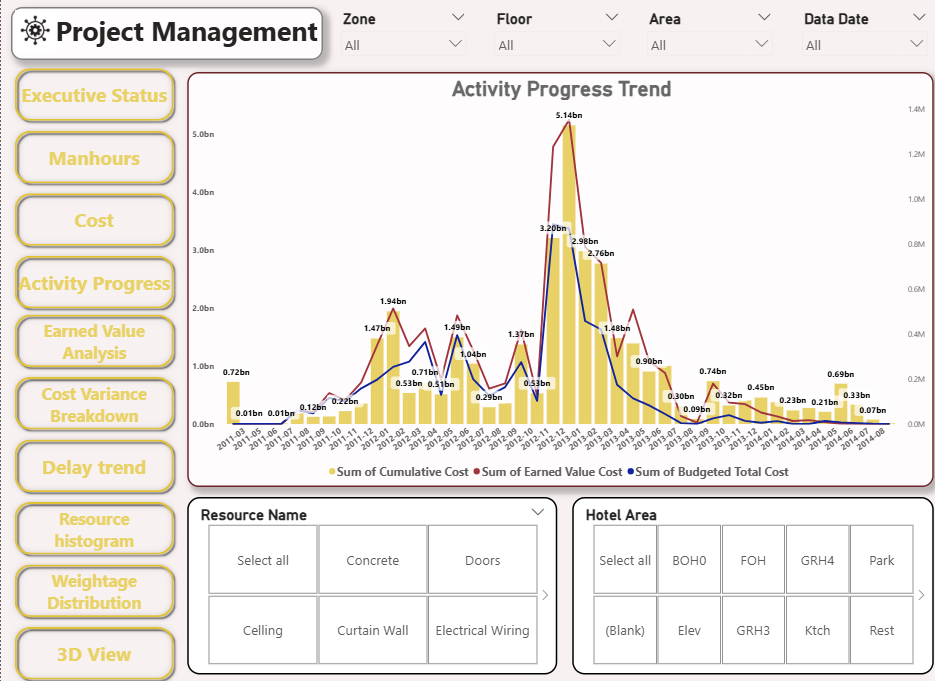

The dashboard page shown, as its layout file describes it:
{"tool":"powerbi","page":{"name":"Activity Progress","canvas":[1500,1100],"ordinal":3},"visuals":[{"type":"textbox","box":[15.2,16.2,499.3,84.6],"z":0},{"type":"image","box":[15.2,16.9,77.9,74.5],"z":1000},{"type":"slicer","fields":{"Values":["Floorcodes_Table.Floor Code Value"]},"box":[780.3,16.9,220,84.6],"z":2000},{"type":"slicer","fields":{"Values":["H areas_Table.H aresCode Value"]},"box":[1024,16.9,220,84.6],"z":3000},{"type":"slicer","fields":{"Values":["Aug14tasks_Table.Zone Number"]},"box":[534.9,16.9,220,84.6],"z":4000},{"type":"slicer","fields":{"Values":["Summary_Table.Data Date."]},"box":[1272.9,16.9,220,84.6],"z":5000},{"type":"actionButton","box":[14,106,270,100],"z":6000},{"type":"actionButton","box":[14,206,270,100],"z":7000},{"type":"actionButton","box":[14,306,270,100],"z":8000},{"type":"actionButton","box":[14,406,270,100],"z":9000},{"type":"actionButton","box":[14,500,270,100],"z":10000},{"type":"actionButton","box":[14,600,270,100],"z":11000},{"type":"actionButton","box":[14,700,270,100],"z":12000},{"type":"actionButton","box":[14,800,270,100],"z":13000},{"type":"actionButton","box":[14,900,270,100],"z":14000},{"type":"actionButton","box":[14,1000,270,100],"z":15000},{"type":"lineStackedColumnComboChart","title":"Activity Progress Trend","fields":{"Category":["Task_Table.MonthYear"],"Y2":["Sum(Task_Table.Earned Value Cost)","Sum(Task_Table.Budgeted Total Cost)"],"Y":["Sum(Task_Table.Cumulative Cost)"]},"box":[298,120,1194,664],"z":16000},{"type":"slicer","fields":{"Values":["Resource_Table.Resource Name"]},"box":[298,800,592,284],"z":17000},{"type":"slicer","fields":{"Values":["Task_Table.Hotel Area"]},"box":[914,800,578,284],"z":18000}]}

Visuals, with their boxes in screenshot pixels (x1, y1, x2, y2), scaled from the page's 1500x1100 canvas onto the 935x681 screenshot:
textbox: BBox(9, 10, 321, 62)
image: BBox(9, 10, 58, 57)
slicer - Floorcodes_Table.Floor Code Value: BBox(486, 10, 624, 63)
slicer - H areas_Table.H aresCode Value: BBox(638, 10, 775, 63)
slicer - Aug14tasks_Table.Zone Number: BBox(333, 10, 471, 63)
slicer - Summary_Table.Data Date.: BBox(793, 10, 931, 63)
actionButton: BBox(9, 66, 177, 128)
actionButton: BBox(9, 128, 177, 189)
actionButton: BBox(9, 189, 177, 251)
actionButton: BBox(9, 251, 177, 313)
actionButton: BBox(9, 310, 177, 371)
actionButton: BBox(9, 371, 177, 433)
actionButton: BBox(9, 433, 177, 495)
actionButton: BBox(9, 495, 177, 557)
actionButton: BBox(9, 557, 177, 619)
actionButton: BBox(9, 619, 177, 680)
"Activity Progress Trend" lineStackedColumnComboChart: BBox(186, 74, 930, 485)
slicer - Resource_Table.Resource Name: BBox(186, 495, 555, 671)
slicer - Task_Table.Hotel Area: BBox(570, 495, 930, 671)
